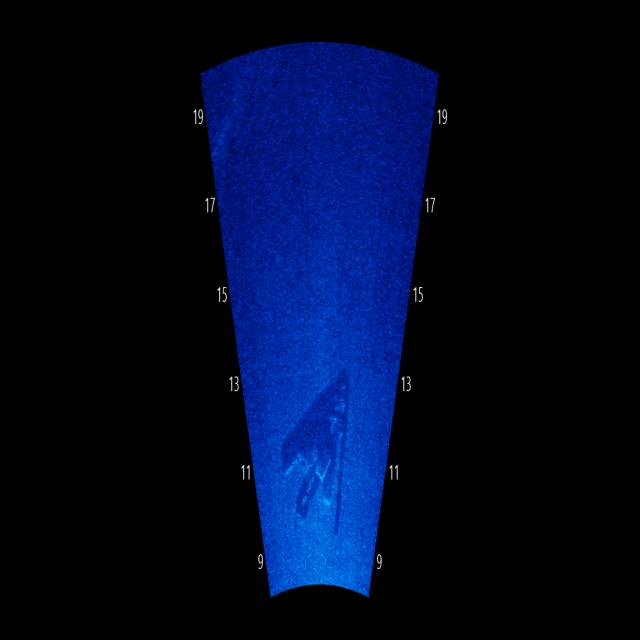triangle: (273, 287, 371, 530)
